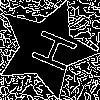H: (21, 23, 79, 74)
